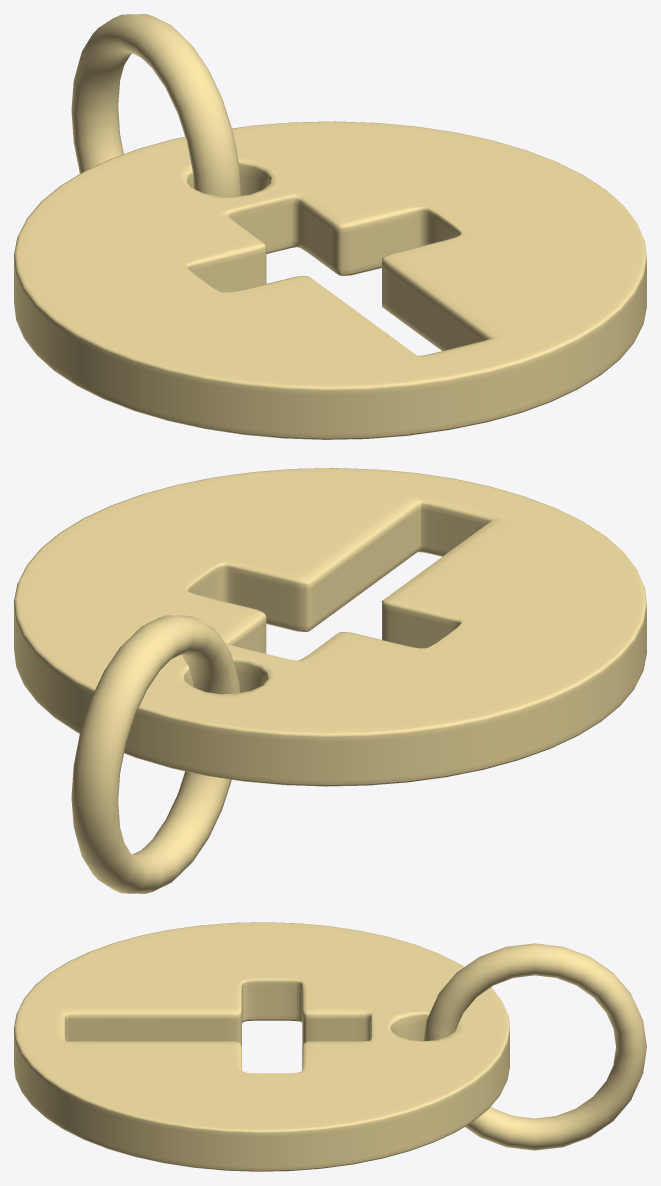
The model's file is Blessed_Disc_Small.glb.
The picture shows the model from 3 angles, top to bottom: view 1: azimuth 30°, elevation 25°; view 2: azimuth 150°, elevation 25°; view 3: azimuth 270°, elevation 25°; orthographic projection. The views are drawn at different scales.
Parts seen in each view (by area): view 1: Blessed_Disc_Small; view 2: Blessed_Disc_Small; view 3: Blessed_Disc_Small.
Boxes of the visible parts, box(x1,y1,x2,y2) form: Blessed_Disc_Small: box(14, 14, 646, 439); Blessed_Disc_Small: box(14, 468, 646, 893); Blessed_Disc_Small: box(14, 922, 646, 1171).
Bounding box in the file's own units: 0.00777 × 0.00351 × 0.00991.
